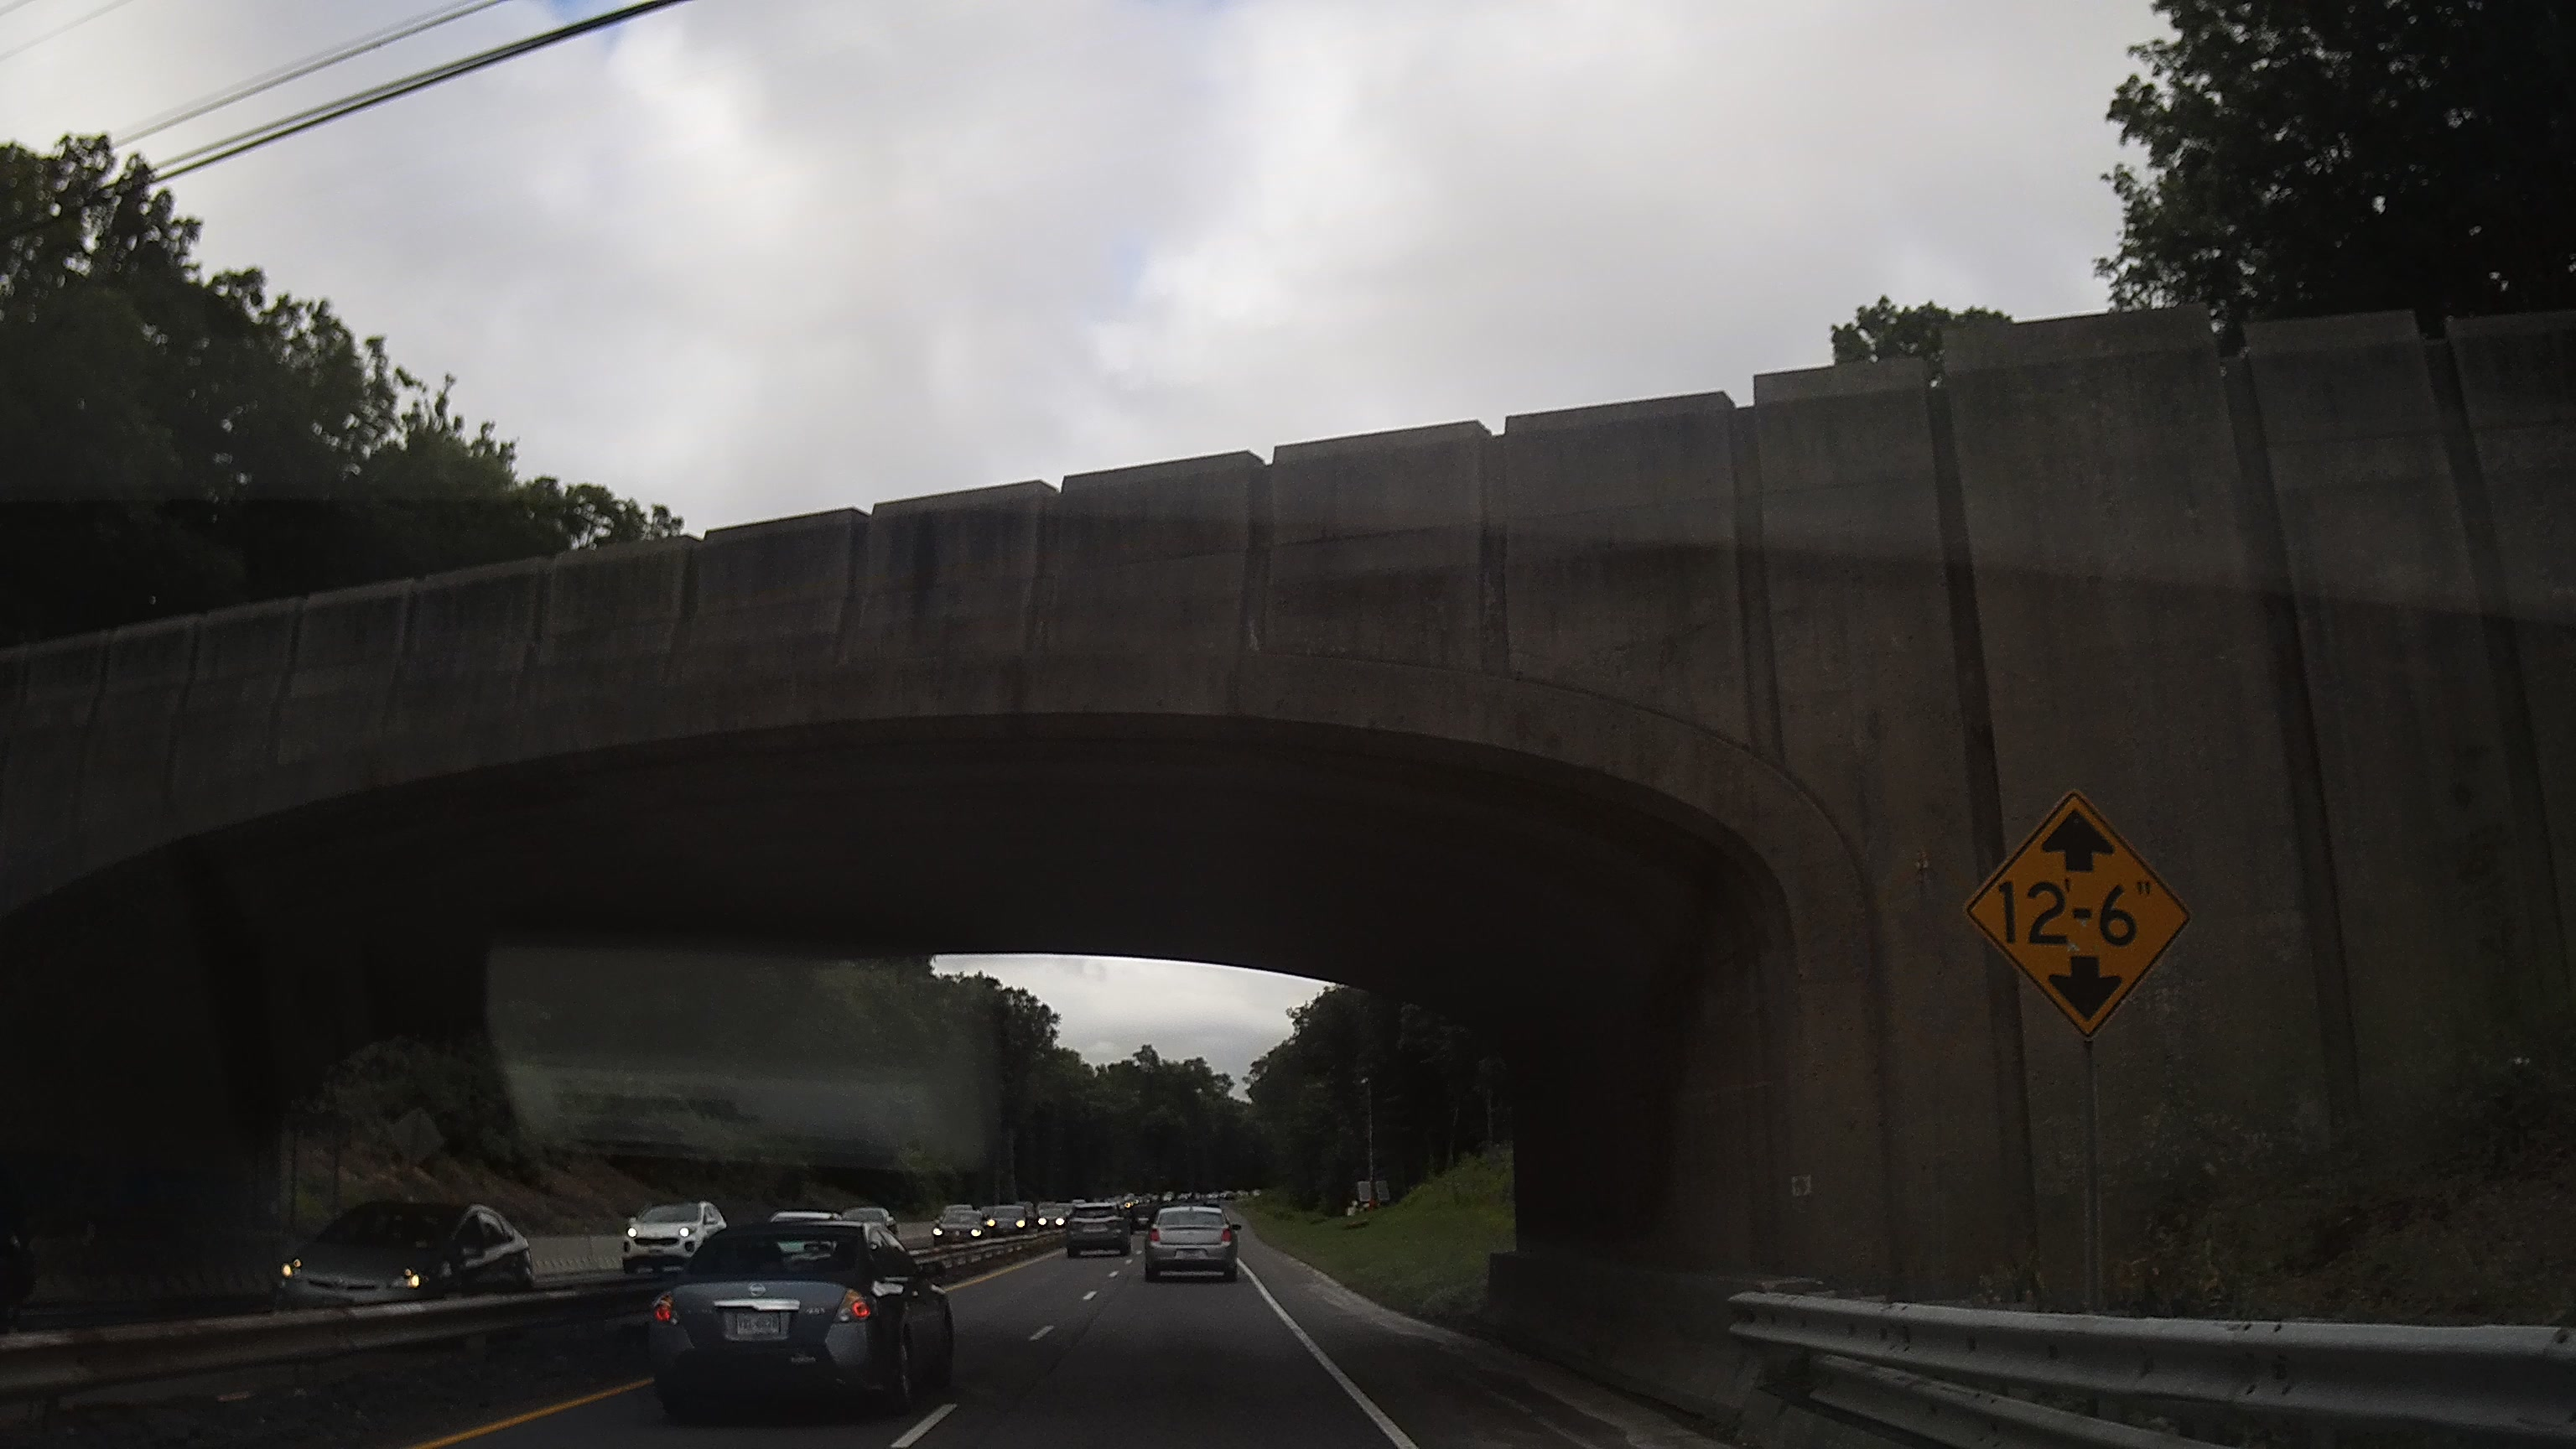low-clearance-sign: (1964, 789, 2194, 1040)
